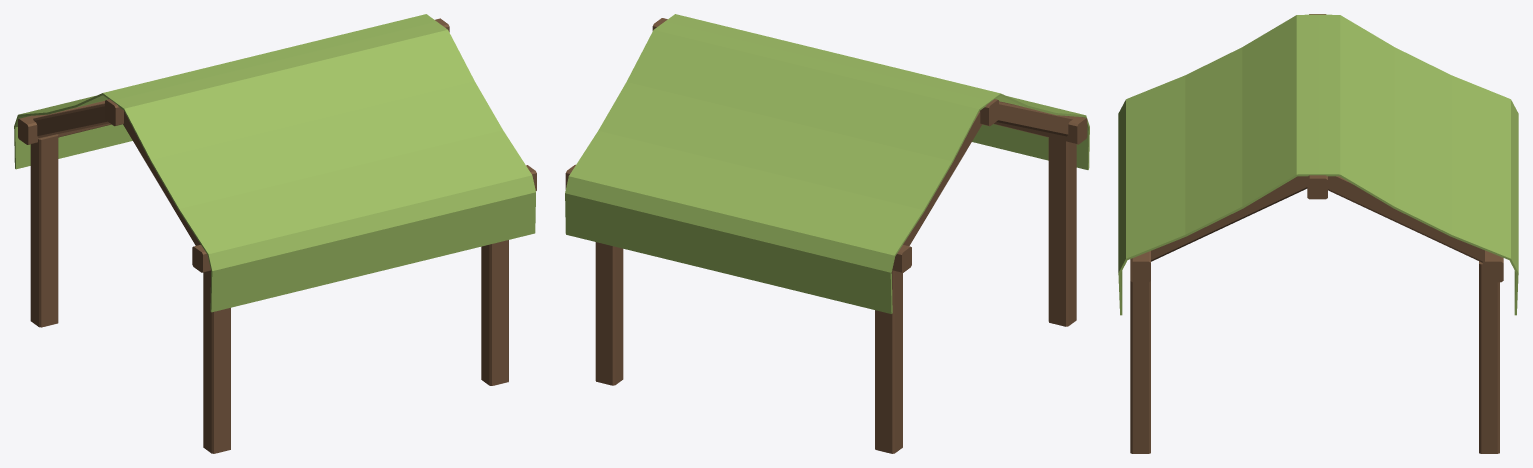
Rendered from Desert_Village_Tent_1.fbx.
The picture shows the model from 3 angles, left to right: view 1: azimuth 30°, elevation 25°; view 2: azimuth 150°, elevation 25°; view 3: azimuth 270°, elevation 25°; orthographic projection.
Visible parts, largest first — view 1: Tent_Towel, Tent_Base; view 2: Tent_Towel, Tent_Base; view 3: Tent_Towel, Tent_Base.
Part boxes in pixels (x1,y1,x2,y2): Tent_Towel: (14,14,535,312); Tent_Base: (18,18,536,453); Tent_Towel: (565,14,1089,313); Tent_Base: (565,18,1087,453); Tent_Towel: (1118,14,1518,315); Tent_Base: (1130,14,1503,453).
Size of the model in its own units: 455 by 373 by 466.
